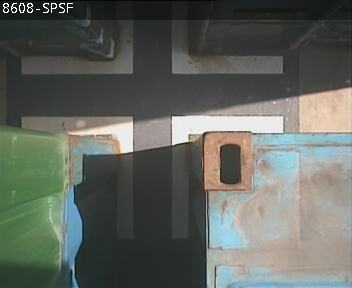groundmarker_1: (20, 116, 283, 240), (20, 1, 283, 74)
